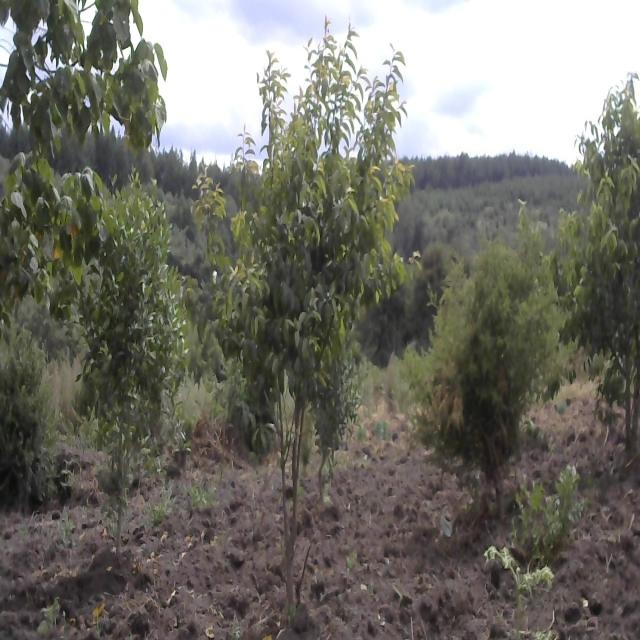Dombeya torrida: (0, 1, 170, 298)
Juniperus procesera: (417, 218, 558, 499)
Olea welwitchii: (195, 26, 410, 602), (78, 174, 188, 557), (554, 60, 640, 450)
